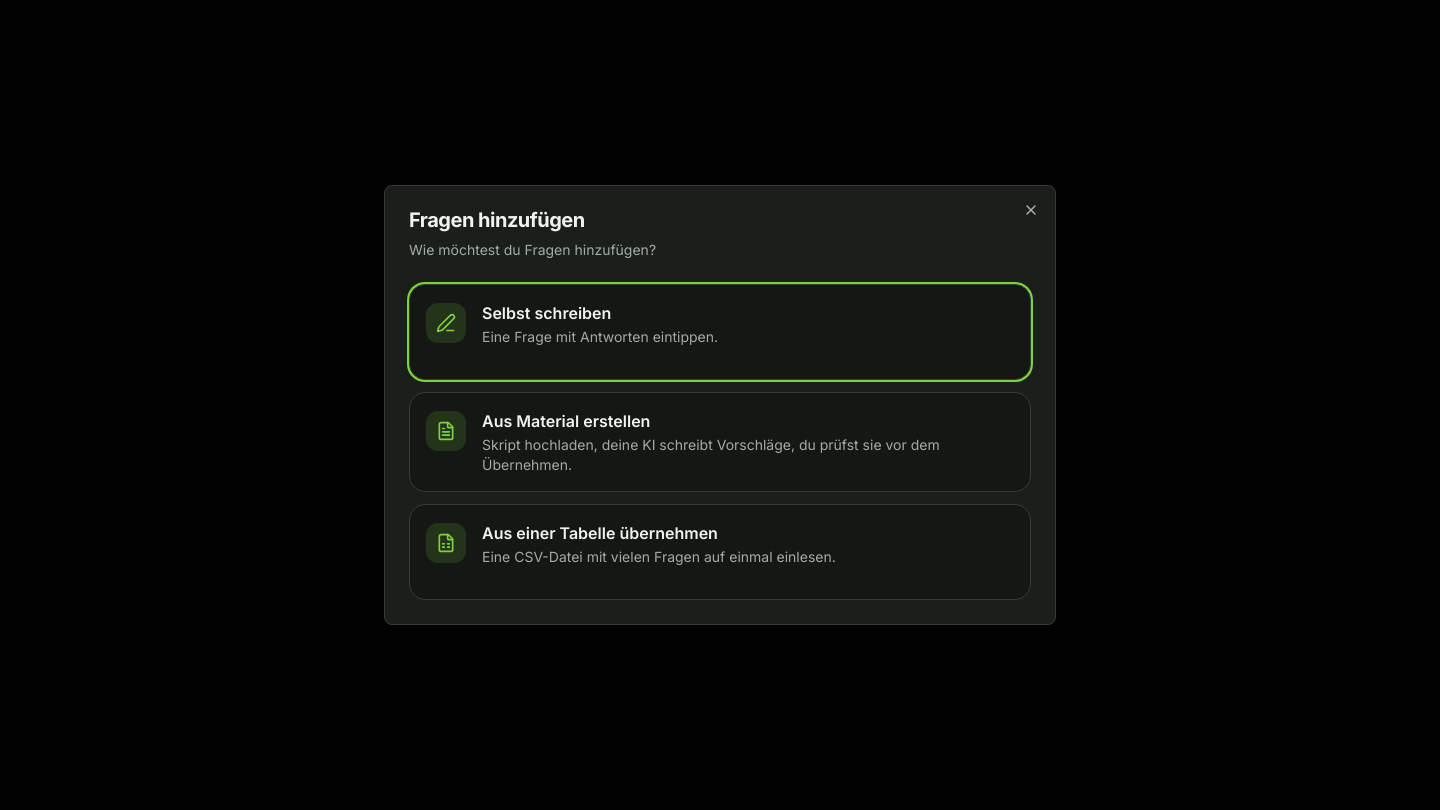
Fragen hinzufügen: Auswahl › zeigt auf keinem Bildschirm Fachwörter wie Prompt, JSON oder API-Key
expect the text "Wie möchtest du Fragen hinzufügen?" is shown: met, box 409,241 -> 656,258
Click the button "Aus Material erstellen".
click(720, 442)  # box 409,392 -> 1031,492
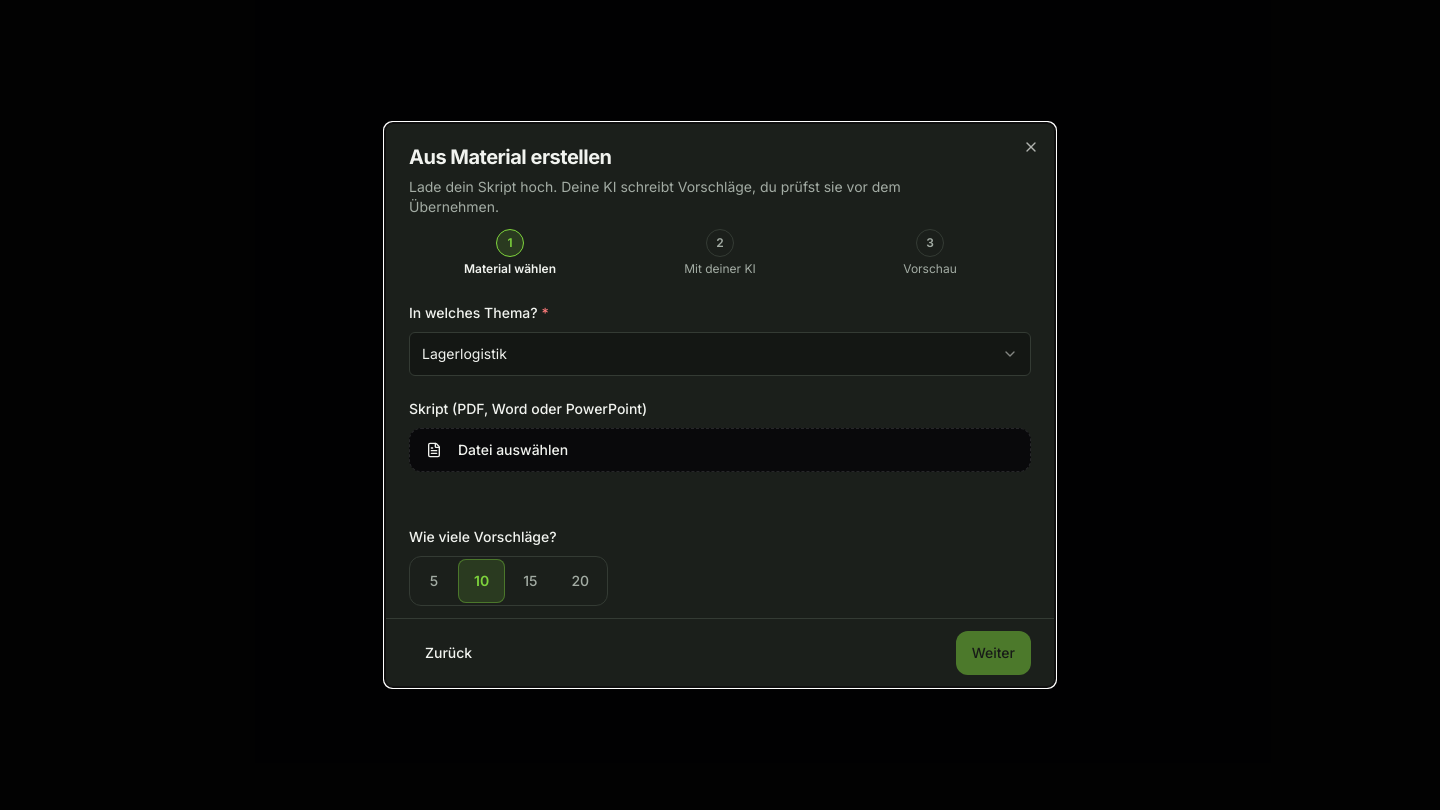
expect the text "Material wählen" is shown: met, box 464,261 -> 556,276
Click the button "Zurück".
click(449, 653)  # box 409,631 -> 488,675
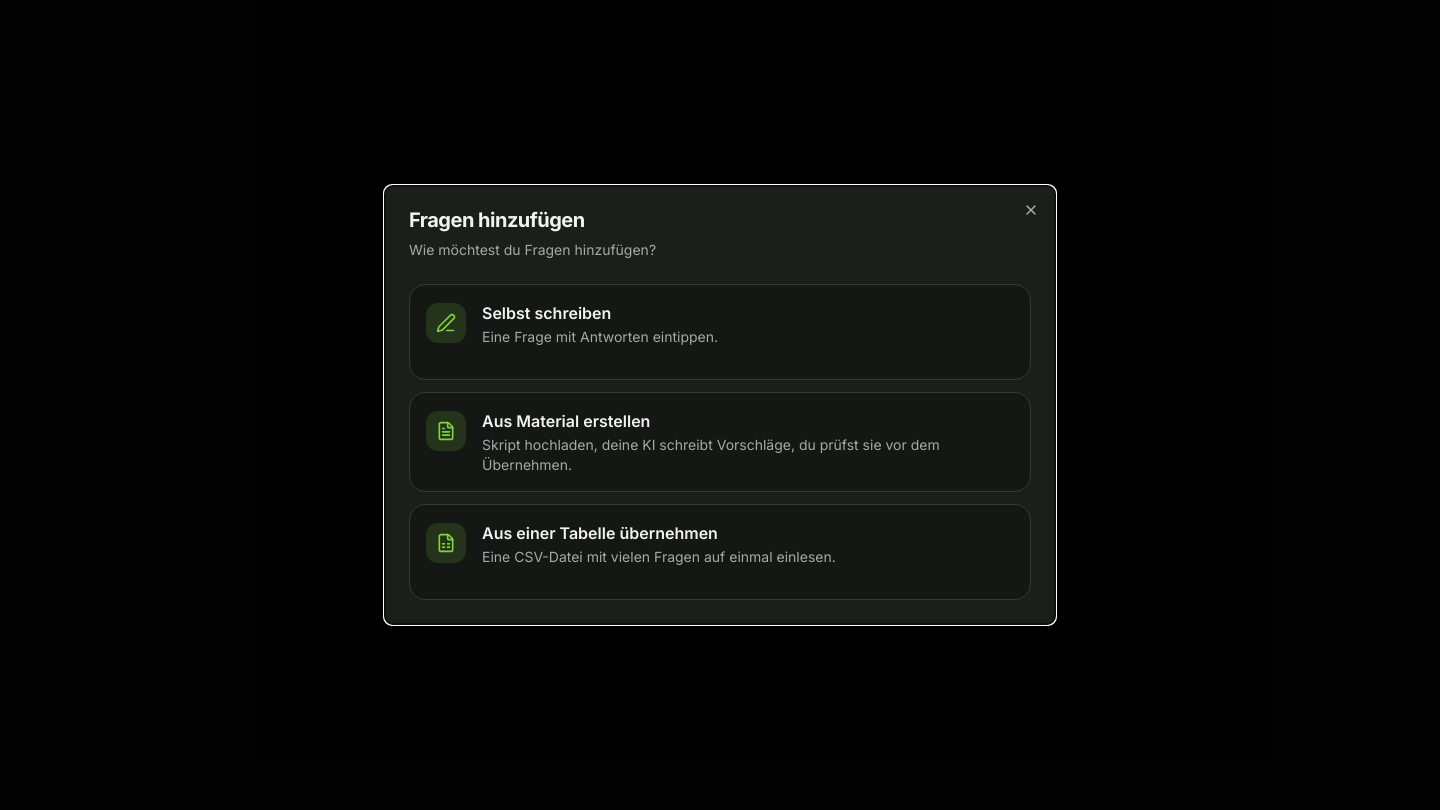
Click the button "Aus einer Tabelle übernehmen".
click(720, 552)  # box 409,504 -> 1031,600
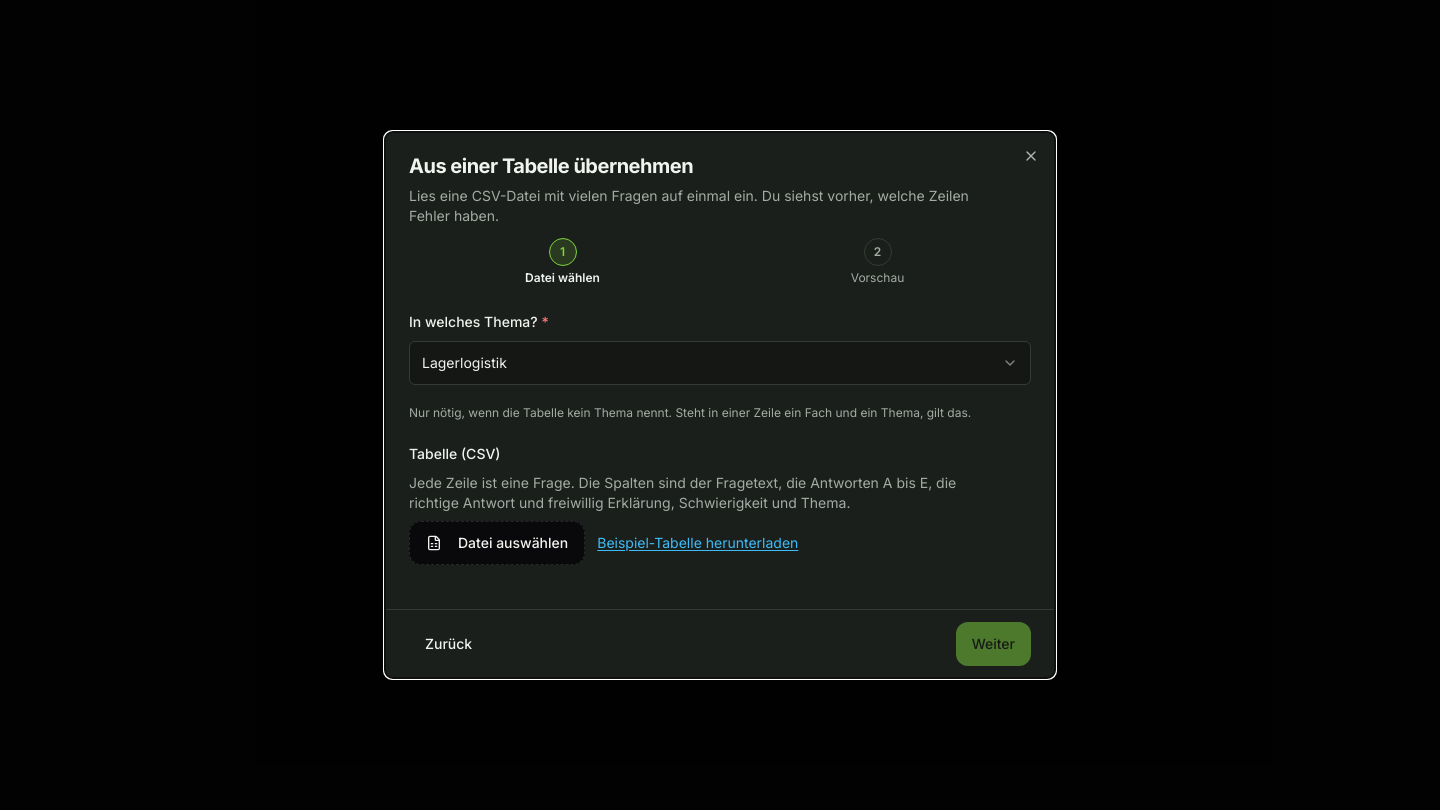
expect the text "Datei wählen" is shown: met, box 525,270 -> 600,285
